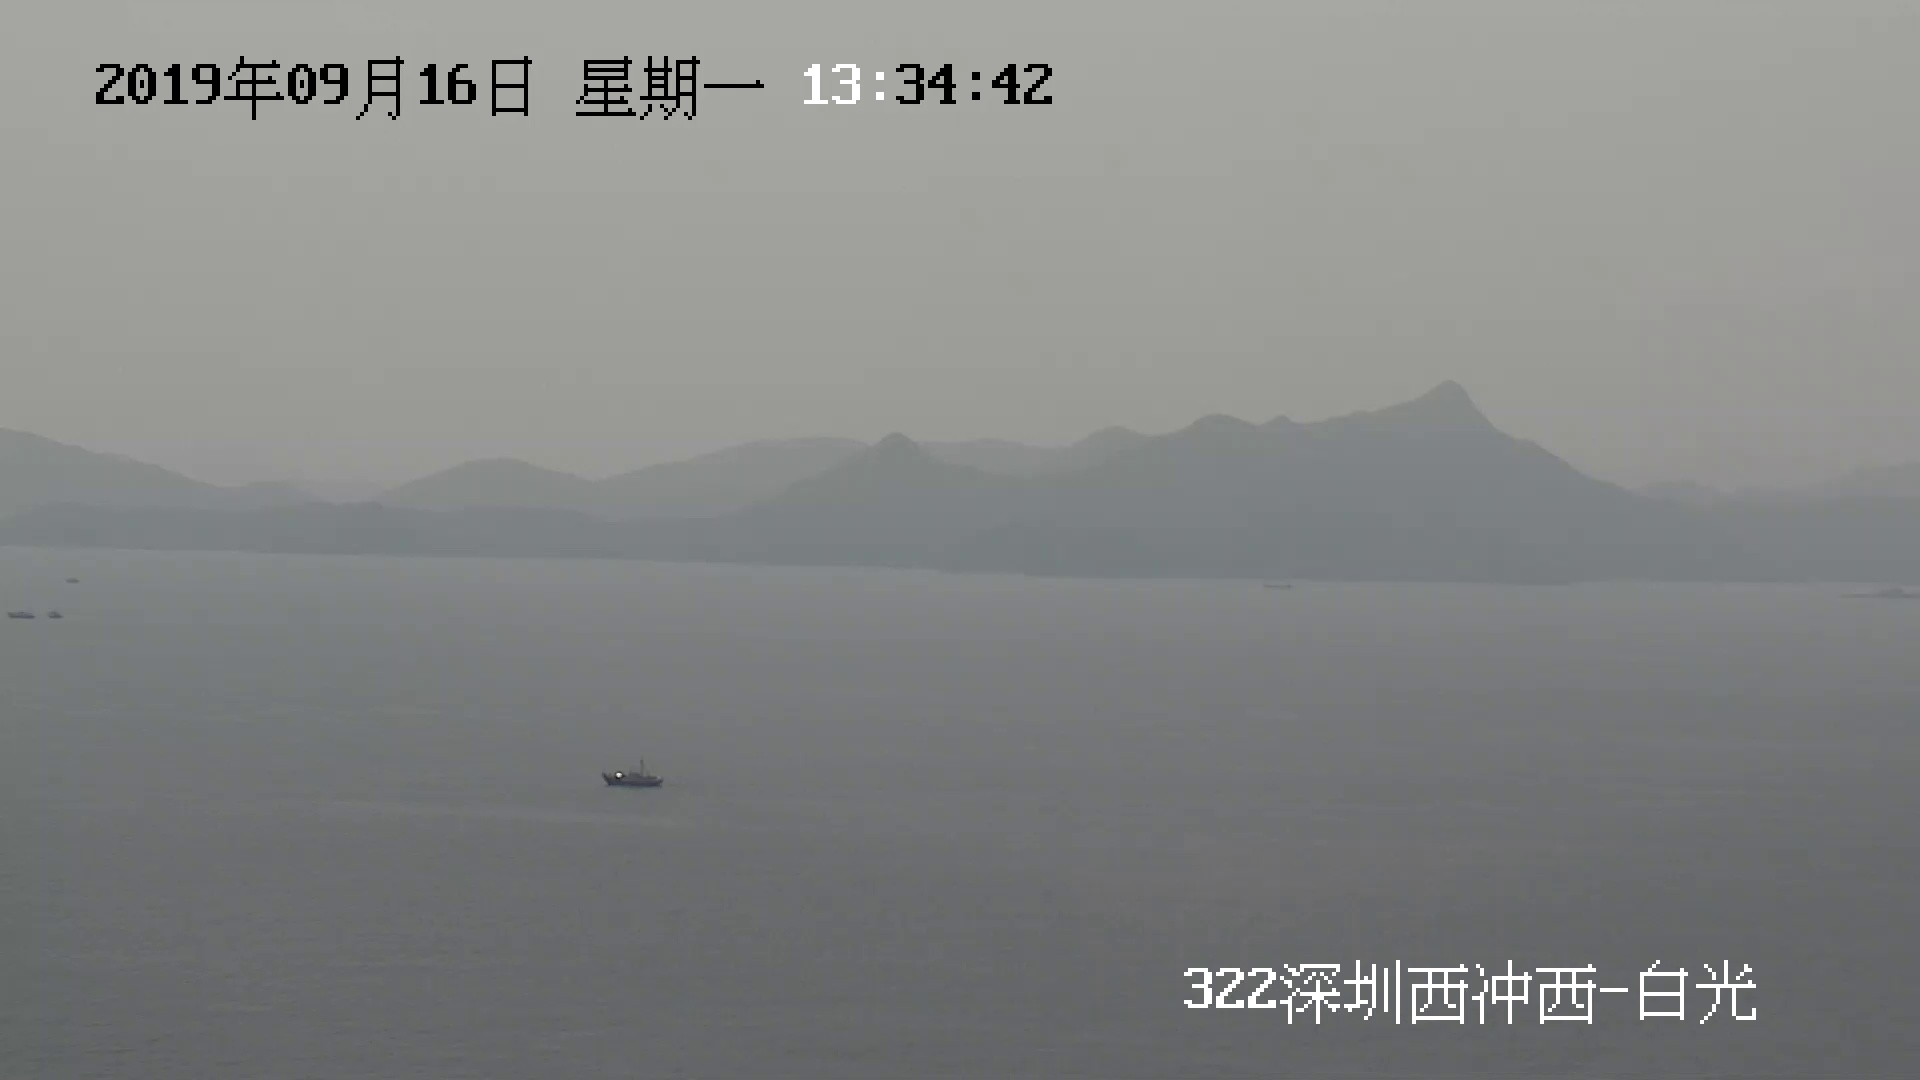ship: (603, 767, 663, 790)
